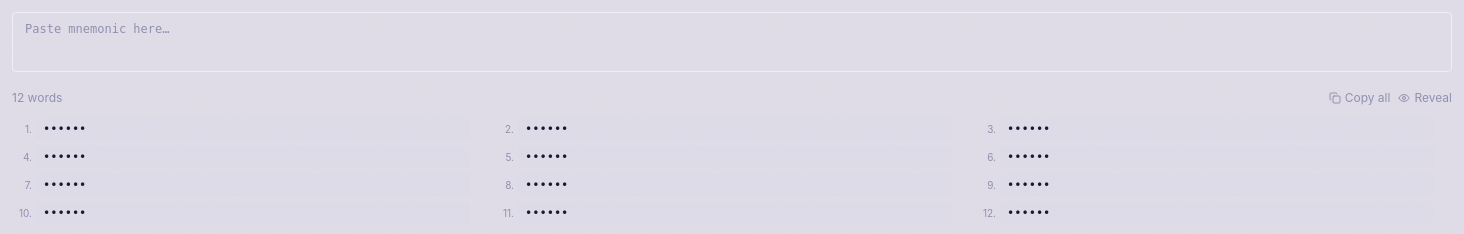
Test case: MnemonicGrid › reveals words when clicking Reveal
The width and height of the screenshot is (1464, 234).
Click the button with aria-label "Reveal words" at [1425, 98], box [1398,90,1452,106]
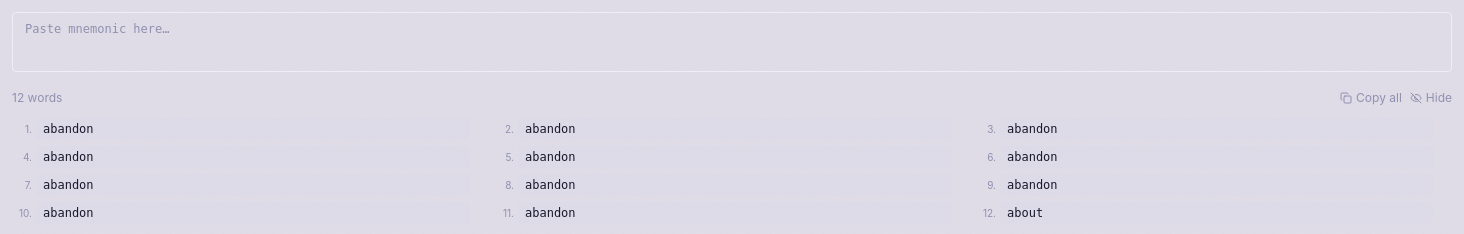
expect the 1st button "abandon" is shown: met, box [36,118,470,140]
